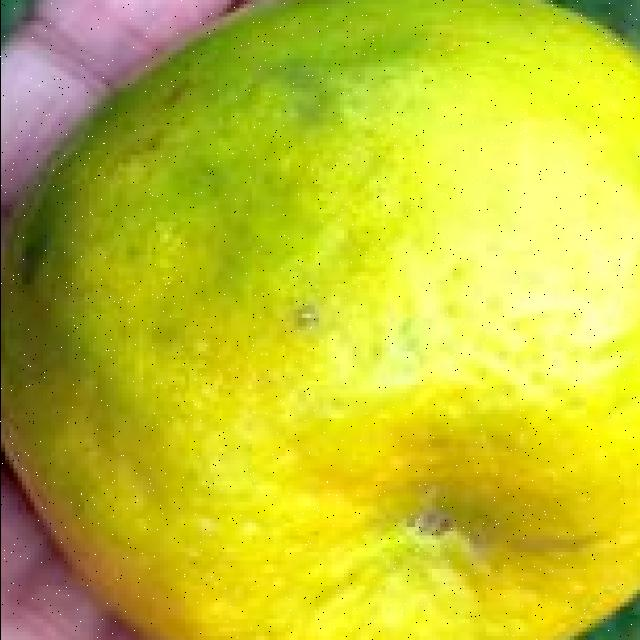Bad_Orange-0-1 day: (0, 0, 640, 640)
